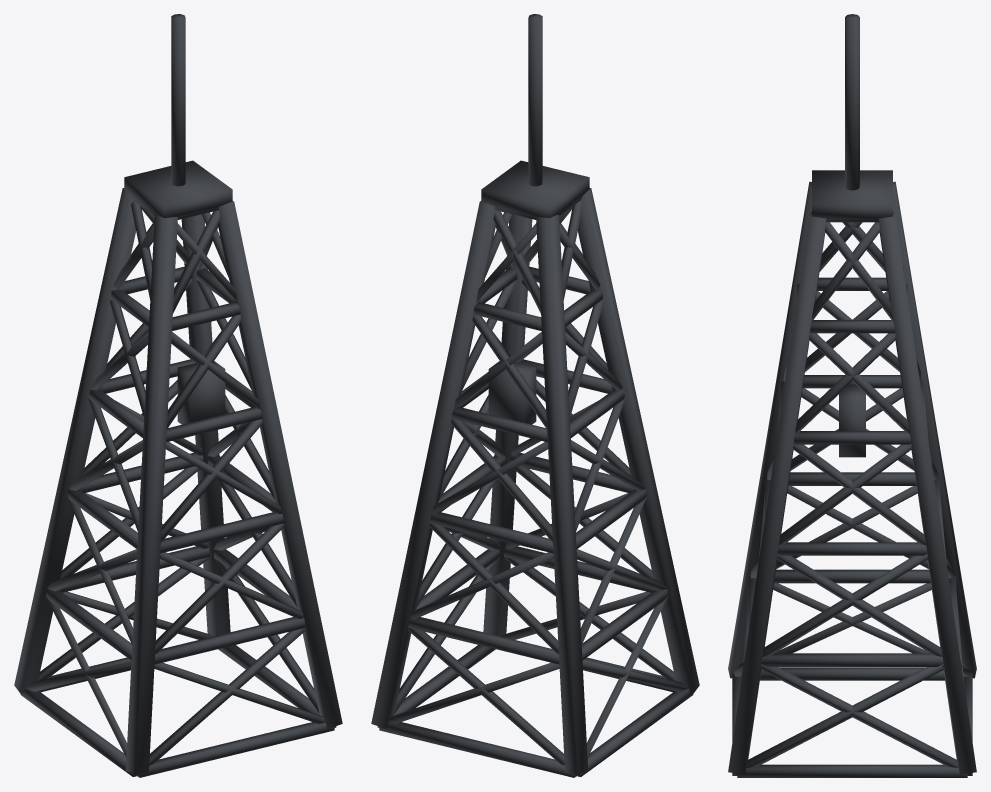
The model's file is PagerTower.glb.
3 views of the same model, side by side, from view 1: azimuth 30°, elevation 25°; view 2: azimuth 150°, elevation 25°; view 3: azimuth 270°, elevation 25° (orthographic). The views are drawn at different scales.
Parts seen in each view (by area): view 1: world; view 2: world; view 3: world.
Part boxes in pixels (x1=…): world: x1=14, y1=14, x2=342, y2=777; world: x1=371, y1=14, x2=699, y2=777; world: x1=728, y1=14, x2=976, y2=777.
Bounding box in the file's own units: 0.736 × 2.32 × 0.7351.
Materials: 1 (1 with a texture image).
